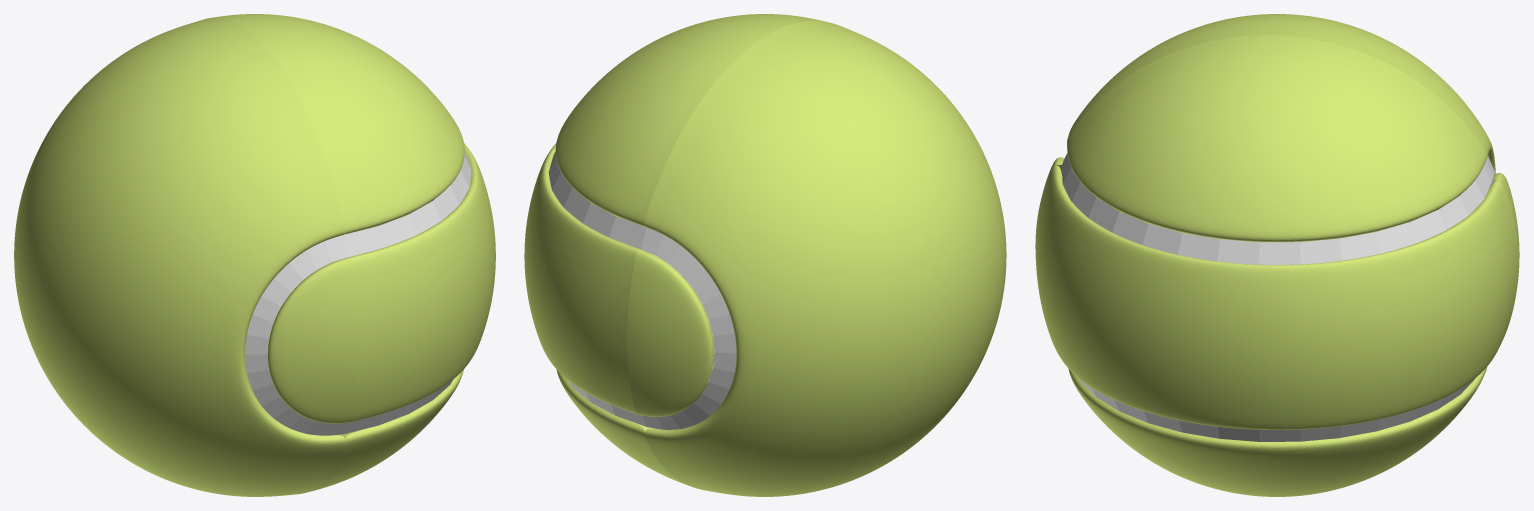
The model's file is tennis.fbx.
The picture shows the model from 3 angles, left to right: view 1: azimuth 30°, elevation 25°; view 2: azimuth 150°, elevation 25°; view 3: azimuth 270°, elevation 25°; orthographic projection.
Visible parts, largest first — view 1: Sphere.001, Sphere.002; view 2: Sphere.001, Sphere.002; view 3: Sphere.001, Sphere.002.
Boxes of the visible parts, left/top/right/bottom form: Sphere.001: left=14, top=14, right=495, bottom=496; Sphere.002: left=245, top=151, right=471, bottom=435; Sphere.001: left=524, top=14, right=1006, bottom=496; Sphere.002: left=548, top=151, right=736, bottom=429; Sphere.001: left=1035, top=14, right=1519, bottom=496; Sphere.002: left=1062, top=153, right=1496, bottom=441.
Size of what is drawn, in the model's own units: 198 by 200 by 199.
